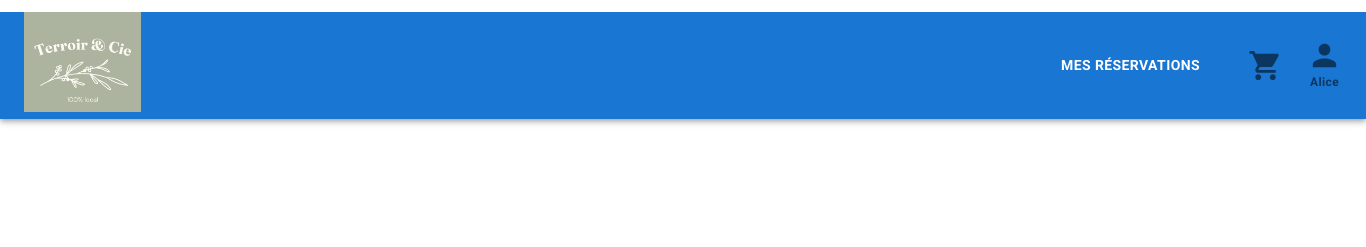
Test: NavBar › opens and closes the user menu
Click the text "Alice" at x=1324, y=83, box x1=1310 y1=73 x2=1339 y2=93
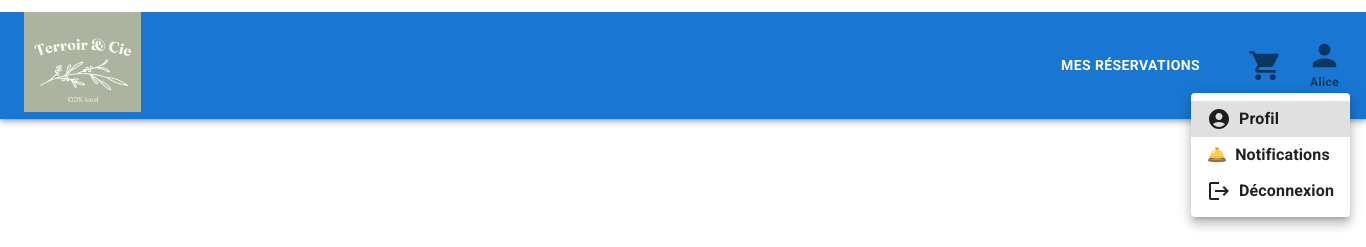
Result: the menu item "Profil" is shown at x1=1191 y1=101 x2=1350 y2=137
Result: the menu item "Déconnexion" is shown at x1=1207 y1=179 x2=1334 y2=203
